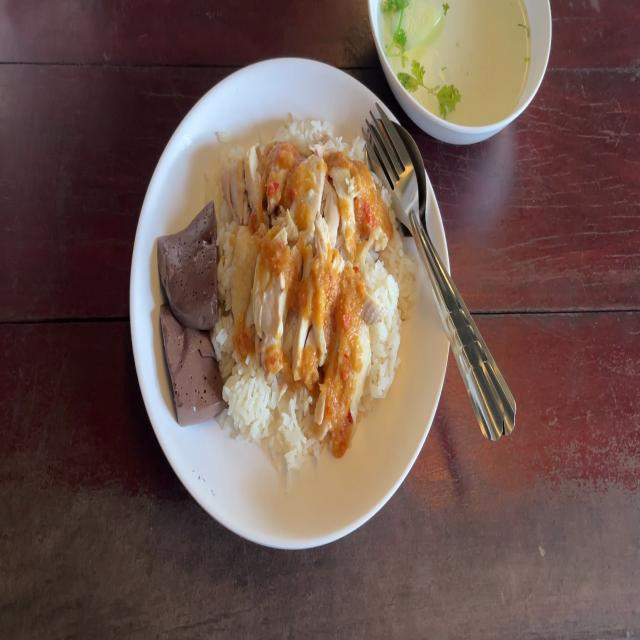boiled_chicken: (234, 153, 369, 392)
boiled_chicken_blood_jelly: (158, 297, 227, 436), (157, 201, 220, 331)
chicken_rice: (166, 120, 404, 463)
